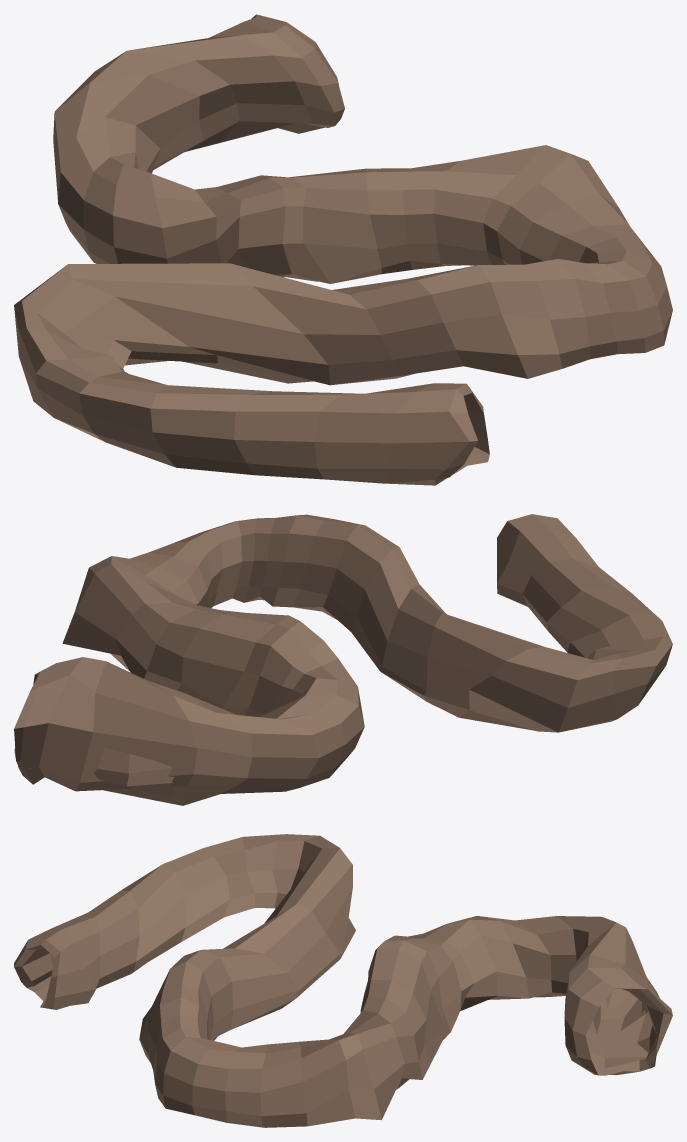
Rendered from cave.fbx.
3 views of the same model, one above another, from view 1: azimuth 30°, elevation 25°; view 2: azimuth 150°, elevation 25°; view 3: azimuth 270°, elevation 25° (orthographic). The views are drawn at different scales.
Visible parts, largest first — view 1: Cube; view 2: Cube; view 3: Cube.
Part boxes in pixels (x1=…): Cube: x1=14, y1=14, x2=672, y2=485; Cube: x1=14, y1=514, x2=672, y2=805; Cube: x1=14, y1=834, x2=672, y2=1127.
Size of the model in its own units: 7316 by 1626 by 8752.
